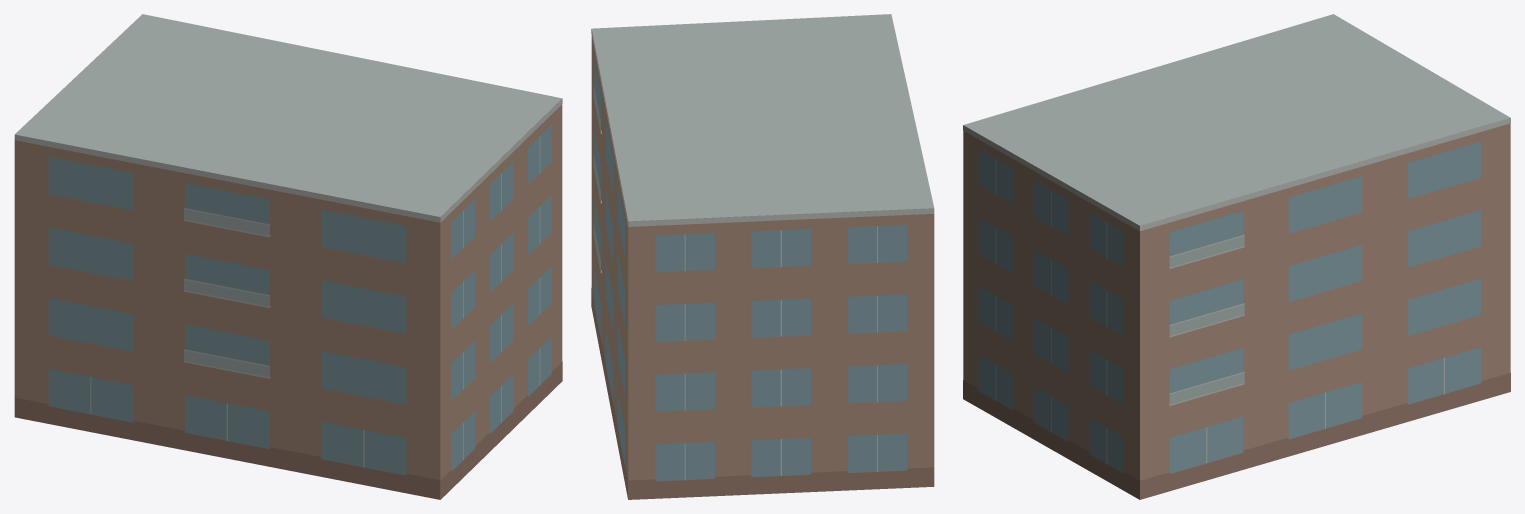
File: survey-upis-32737107.glb
3 views of the same model, side by side, from view 1: azimuth 30°, elevation 25°; view 2: azimuth 150°, elevation 25°; view 3: azimuth 270°, elevation 25° (orthographic). The views are drawn at different scales.
Visible parts, largest first — view 1: survey-upis-32737107.tmp; view 2: survey-upis-32737107.tmp; view 3: survey-upis-32737107.tmp.
Boxes of the visible parts, <box> form: survey-upis-32737107.tmp: <box>14,14,562,499</box>; survey-upis-32737107.tmp: <box>591,14,934,499</box>; survey-upis-32737107.tmp: <box>963,14,1510,499</box>.
Bounding box in the file's own units: 20.23 × 12.2 × 22.1.
